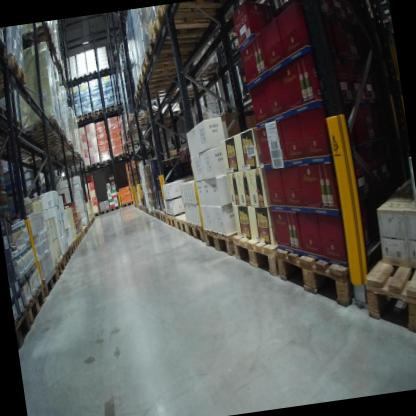pallet: (270, 203, 398, 318), (228, 201, 325, 284), (358, 235, 416, 351), (146, 0, 236, 44), (141, 28, 214, 66), (202, 214, 255, 259), (0, 51, 36, 112), (137, 49, 200, 82), (131, 65, 187, 94), (18, 113, 62, 148), (131, 80, 187, 107), (22, 280, 52, 328), (19, 21, 55, 54), (13, 303, 36, 351), (190, 59, 226, 87), (33, 126, 66, 151), (185, 212, 207, 248), (174, 208, 199, 236), (40, 264, 60, 298), (153, 108, 187, 124), (176, 84, 203, 102), (47, 140, 77, 156), (0, 26, 12, 65), (51, 255, 68, 281), (127, 109, 154, 122), (125, 121, 150, 135), (165, 209, 182, 229), (24, 152, 45, 167), (120, 134, 142, 148), (40, 40, 57, 56), (60, 246, 73, 265), (50, 57, 64, 72), (66, 240, 77, 259), (111, 151, 125, 163), (159, 210, 168, 228), (71, 234, 81, 249), (99, 156, 112, 167), (98, 205, 110, 216), (98, 63, 111, 73), (76, 71, 87, 82), (121, 199, 133, 209), (155, 206, 163, 220), (90, 159, 101, 169), (66, 72, 77, 82), (80, 162, 92, 171), (109, 204, 120, 213), (76, 229, 83, 243), (87, 67, 99, 75), (82, 113, 93, 121), (105, 105, 116, 113), (150, 208, 156, 221), (92, 110, 105, 116), (81, 226, 88, 237), (74, 117, 84, 124), (80, 228, 86, 239), (93, 210, 100, 217)
